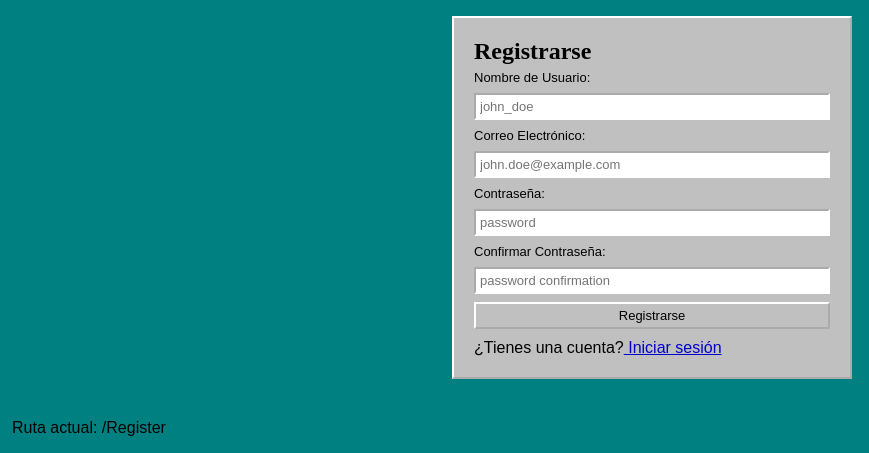
Pruebas de Registro › permite registrar un usuario con datos válidos
The image size is (869, 453).
Type "Juanito" into the field labelled "Nombre de Usuario:".
click(652, 106); type("Juanito")  # box [474,93,830,120]
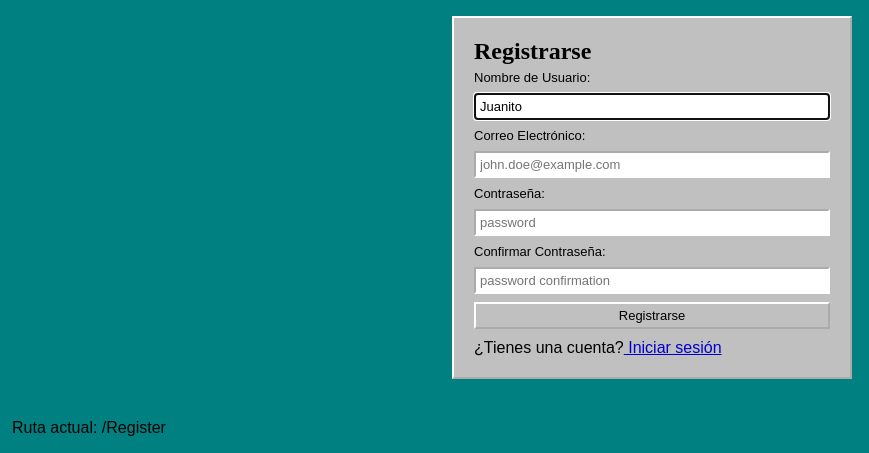
Type "juan@gmail.com" into the field labelled "Correo Electrónico:".
click(652, 164); type("juan@gmail.com")  # box [474,151,830,178]
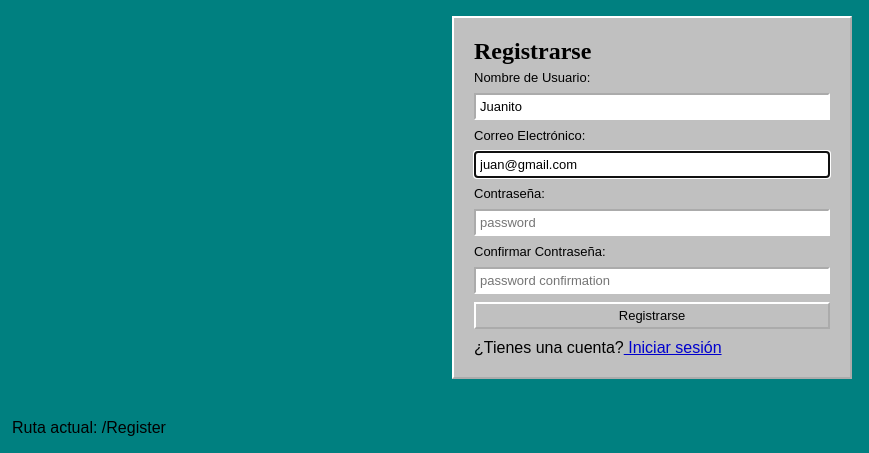
Type "Juan.123" into the password field labelled "Contraseña:".
click(652, 222); type("Juan.123")  # box [474,209,830,236]
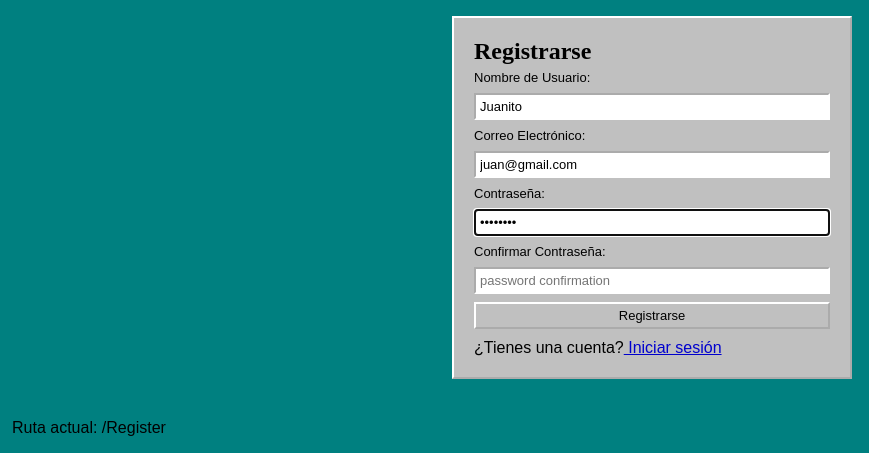
Type "Juan.123" into the password field labelled "Confirmar Contraseña:".
click(652, 280); type("Juan.123")  # box [474,267,830,294]
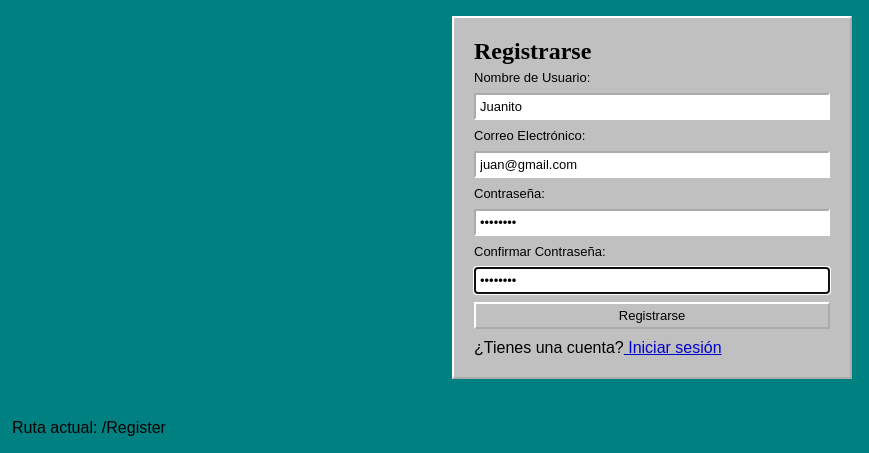
Click the button "Registrarse".
click(652, 316)  # box [474,302,830,329]
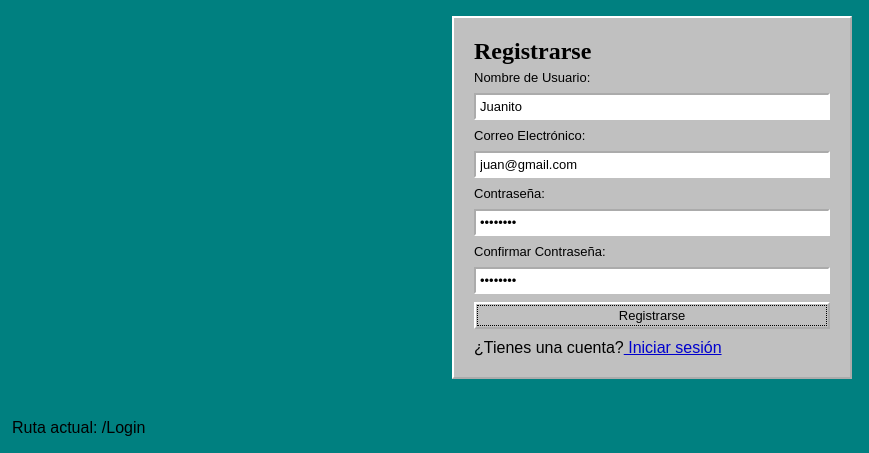
expect the text "Ruta actual: /Login" is shown: met, box [12,419,145,436]
